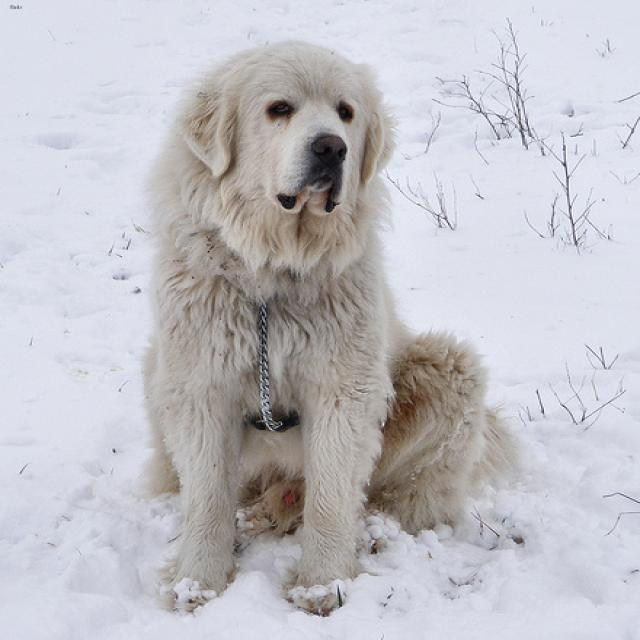dog-great_pyrenees: (118, 27, 529, 622)
